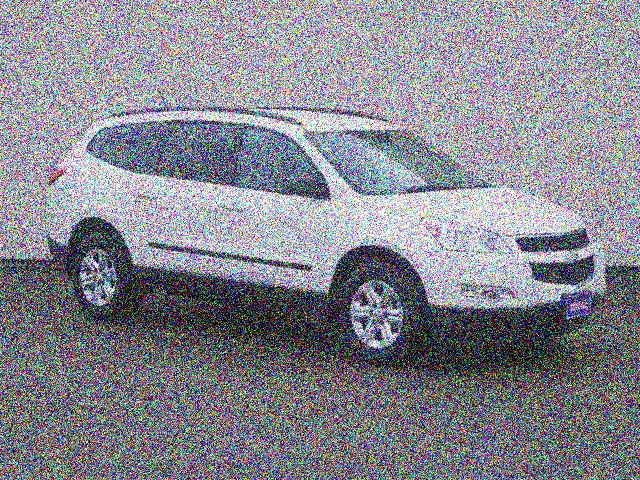car: (0, 93, 621, 375)
